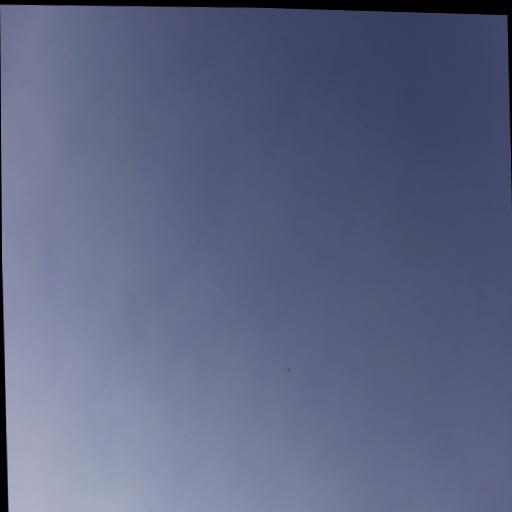drones: (287, 366, 291, 373)
